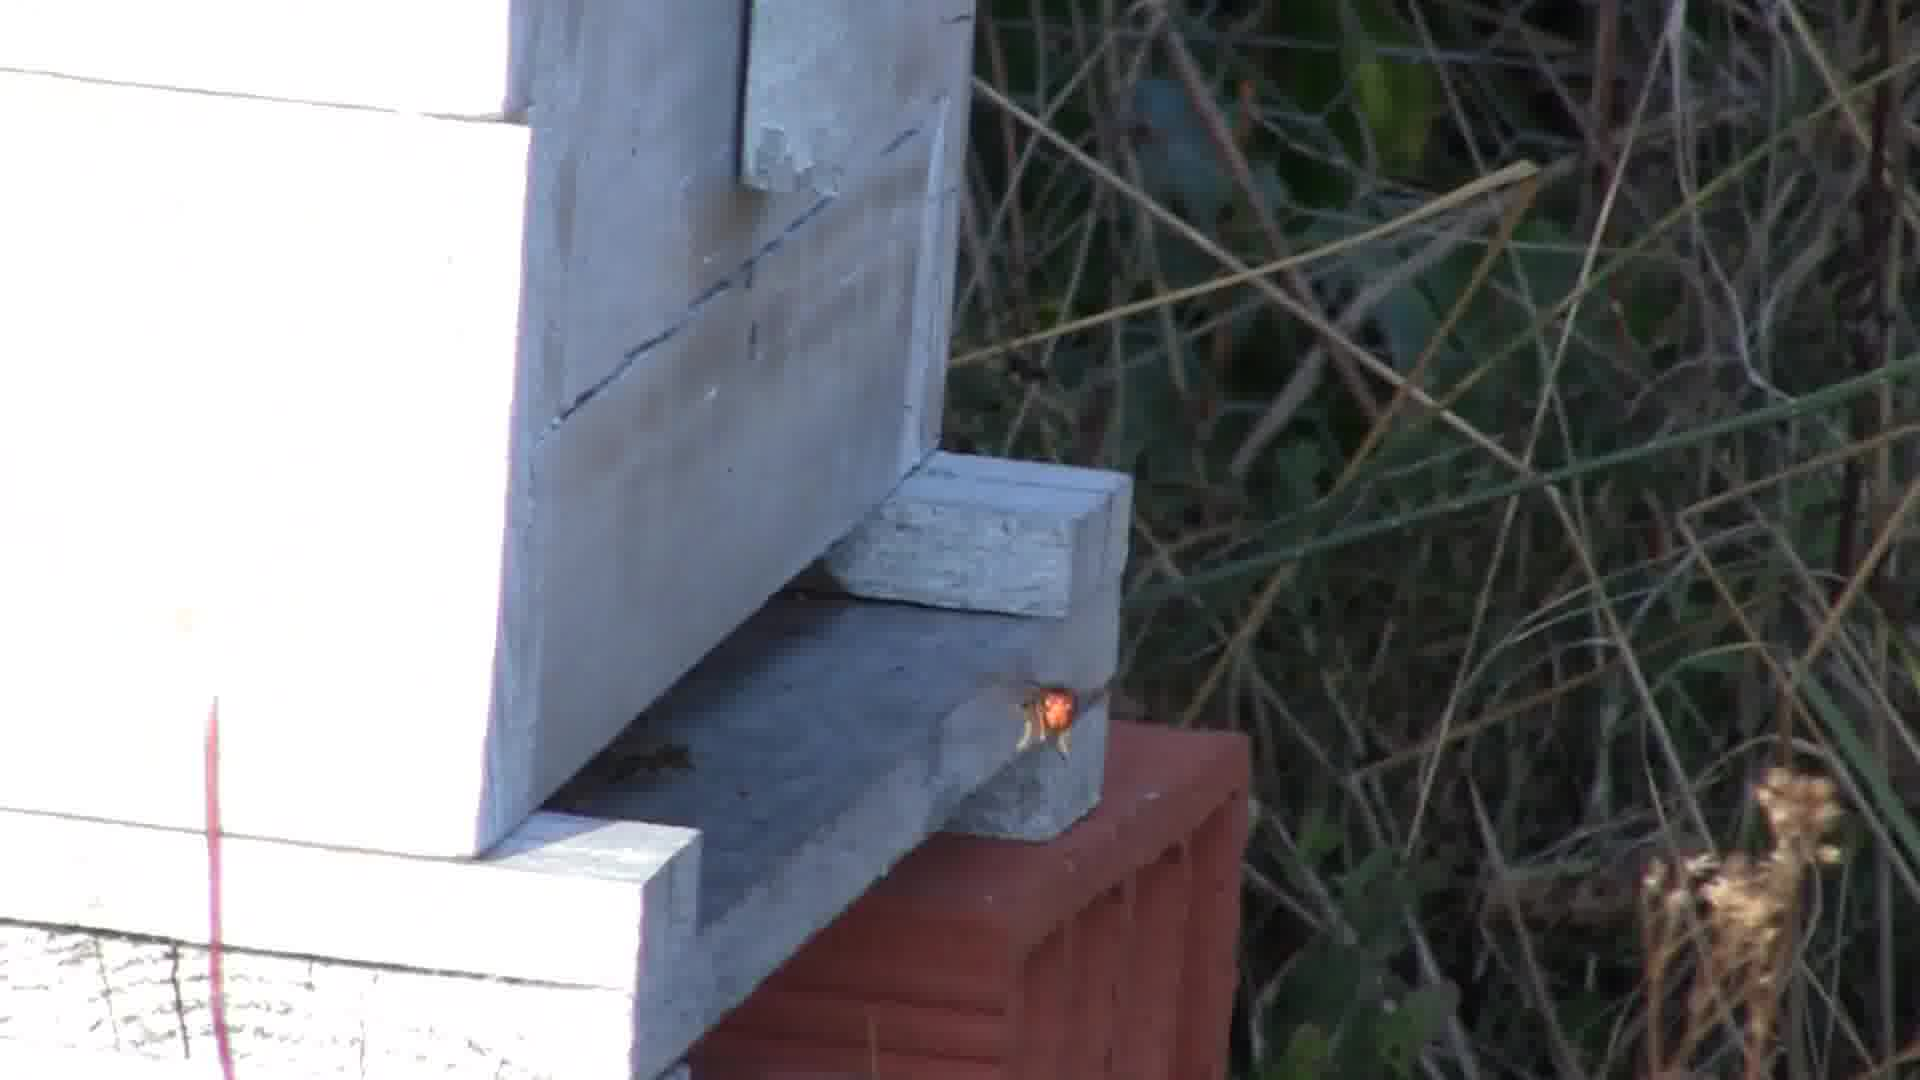hornet: (1007, 671, 1098, 765)
